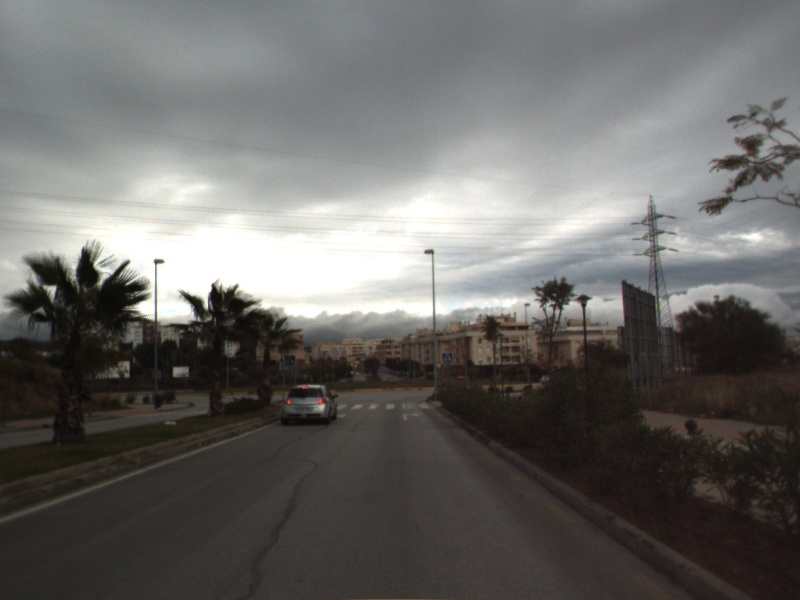RIGHT: (400, 410, 424, 423)
